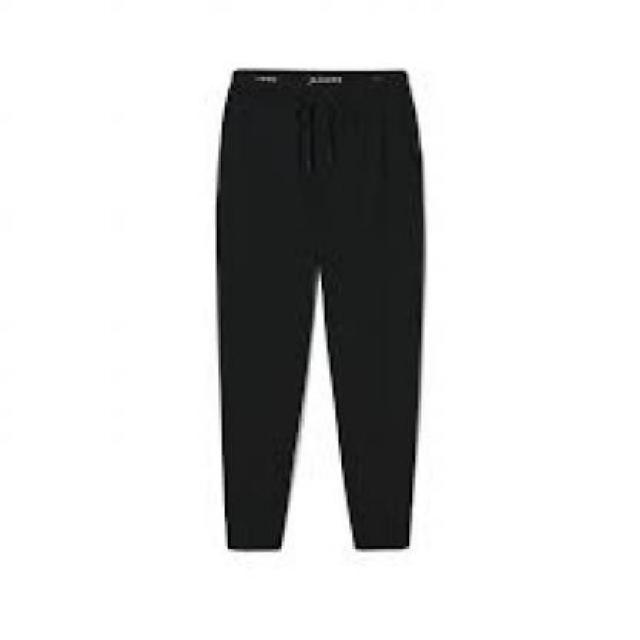pants: (213, 62, 426, 548)
